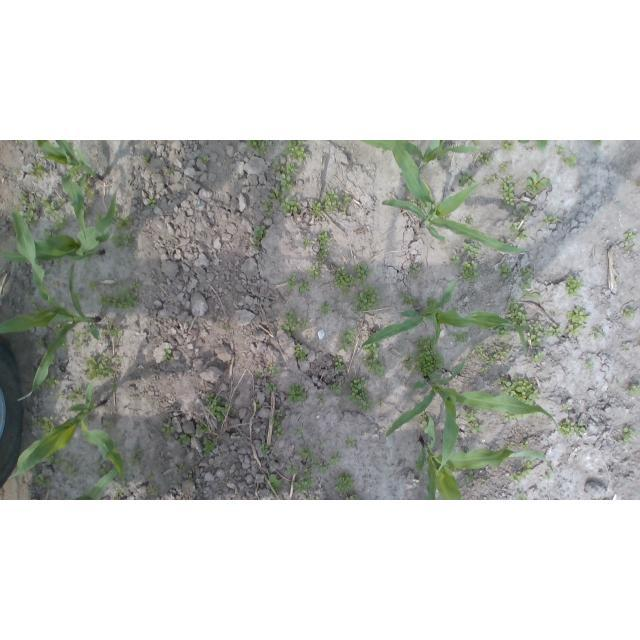Maize: (0, 206, 100, 401), (380, 145, 530, 255), (385, 360, 560, 439), (360, 280, 529, 355), (8, 380, 126, 486), (416, 414, 554, 500), (0, 187, 116, 261), (37, 140, 103, 193), (358, 140, 478, 169), (69, 468, 131, 501)
Weeds: (415, 335, 446, 379), (496, 375, 541, 405), (100, 283, 141, 312), (504, 298, 529, 332), (353, 284, 382, 312), (205, 392, 232, 422), (85, 354, 113, 381), (280, 311, 308, 338), (565, 307, 589, 338), (347, 377, 372, 405), (525, 172, 550, 196), (282, 140, 306, 164), (499, 176, 516, 209), (333, 266, 356, 290), (33, 462, 55, 487), (20, 201, 39, 227), (525, 321, 544, 347), (460, 260, 480, 283), (563, 275, 583, 298), (334, 473, 355, 494), (364, 358, 385, 379), (338, 329, 356, 352), (288, 383, 308, 403), (488, 345, 509, 364), (292, 476, 316, 492), (37, 196, 56, 216), (248, 140, 271, 156), (281, 196, 302, 213), (52, 210, 68, 232), (113, 233, 136, 248), (39, 372, 59, 389), (324, 188, 338, 212), (40, 416, 56, 436), (274, 159, 295, 174), (355, 263, 370, 284), (509, 469, 531, 483), (27, 163, 45, 180), (68, 387, 85, 405), (558, 419, 575, 437), (463, 241, 482, 257), (95, 459, 111, 478), (61, 460, 78, 477), (115, 216, 133, 232), (493, 324, 511, 340), (295, 344, 310, 363), (520, 267, 532, 290), (561, 152, 578, 168), (621, 427, 636, 445), (268, 187, 284, 203), (107, 323, 123, 339), (459, 172, 475, 188), (363, 342, 380, 357), (298, 447, 315, 462), (46, 453, 62, 468), (400, 293, 417, 307), (472, 344, 486, 361), (477, 151, 494, 165), (203, 438, 217, 455), (269, 474, 283, 491), (281, 173, 294, 191), (412, 197, 427, 212), (161, 422, 176, 437), (499, 262, 513, 278), (312, 459, 328, 473), (285, 274, 298, 291), (403, 355, 415, 373), (543, 326, 561, 338), (508, 220, 521, 236), (452, 333, 470, 344), (317, 231, 331, 245), (319, 302, 333, 316), (332, 355, 344, 371), (542, 215, 559, 226), (531, 352, 545, 365), (331, 381, 344, 395), (52, 321, 67, 333), (504, 411, 519, 423), (313, 200, 324, 216), (298, 280, 311, 293), (254, 226, 267, 239), (622, 308, 635, 321), (360, 400, 373, 413), (308, 265, 320, 279), (461, 410, 475, 422), (535, 140, 549, 152), (196, 423, 208, 437), (523, 291, 541, 300), (592, 326, 605, 338), (502, 140, 515, 152), (269, 364, 281, 377), (83, 184, 94, 198), (575, 423, 586, 437), (522, 202, 533, 216), (260, 443, 275, 453), (624, 230, 636, 242), (44, 227, 56, 239), (426, 296, 438, 308), (470, 423, 483, 434), (58, 337, 68, 351), (519, 413, 538, 420), (628, 385, 640, 396), (451, 254, 462, 266), (329, 454, 340, 466), (145, 196, 155, 209), (419, 421, 429, 434), (74, 337, 83, 351), (180, 434, 191, 445), (140, 152, 150, 164), (31, 304, 43, 314), (161, 348, 171, 360), (346, 439, 358, 449), (273, 427, 283, 439), (320, 246, 329, 259), (19, 192, 28, 205), (82, 328, 91, 341), (466, 472, 475, 485), (57, 197, 68, 207), (523, 459, 534, 469), (267, 382, 278, 392), (556, 145, 565, 156), (264, 201, 273, 212), (147, 488, 158, 497), (272, 417, 281, 428), (514, 493, 528, 500), (345, 494, 361, 500), (92, 214, 104, 222), (623, 244, 633, 253), (417, 410, 427, 419), (37, 339, 46, 349), (410, 268, 420, 277), (513, 210, 523, 219), (288, 465, 297, 475), (73, 169, 81, 180), (88, 281, 96, 292), (586, 361, 595, 370), (316, 396, 325, 405), (561, 404, 571, 412), (252, 238, 260, 248), (338, 202, 346, 212), (32, 418, 40, 428), (103, 420, 113, 428), (520, 230, 528, 240), (178, 462, 186, 472), (135, 449, 143, 458), (128, 459, 136, 468), (296, 428, 304, 437), (437, 154, 447, 161), (55, 258, 65, 265), (501, 162, 508, 172), (592, 140, 603, 146), (276, 410, 282, 421), (344, 195, 352, 203), (84, 255, 92, 263), (200, 157, 209, 164), (87, 175, 94, 184), (520, 442, 529, 449), (304, 469, 313, 476), (460, 358, 472, 363), (304, 241, 312, 248), (264, 213, 272, 220), (55, 392, 62, 400), (491, 175, 498, 183), (221, 323, 228, 331), (317, 440, 324, 447), (344, 290, 351, 297), (480, 367, 488, 373), (466, 217, 472, 224), (115, 489, 121, 496), (197, 485, 203, 492), (441, 215, 449, 220), (518, 140, 528, 144), (498, 238, 504, 244), (256, 403, 262, 409), (48, 340, 53, 347), (84, 488, 89, 495), (508, 444, 513, 451), (473, 141, 480, 146), (621, 344, 628, 349), (481, 478, 487, 483), (102, 331, 107, 337), (112, 387, 117, 393), (117, 356, 122, 362), (381, 148, 386, 154), (256, 372, 261, 377), (616, 382, 622, 386), (546, 473, 550, 479), (168, 168, 174, 172), (115, 206, 119, 212), (432, 199, 436, 205), (18, 141, 24, 144), (308, 497, 312, 500), (190, 471, 193, 474)
